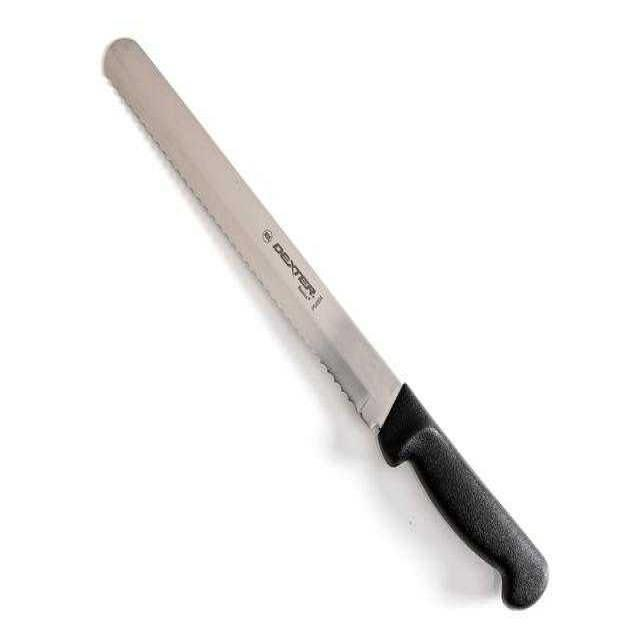knife: (95, 36, 573, 629)
